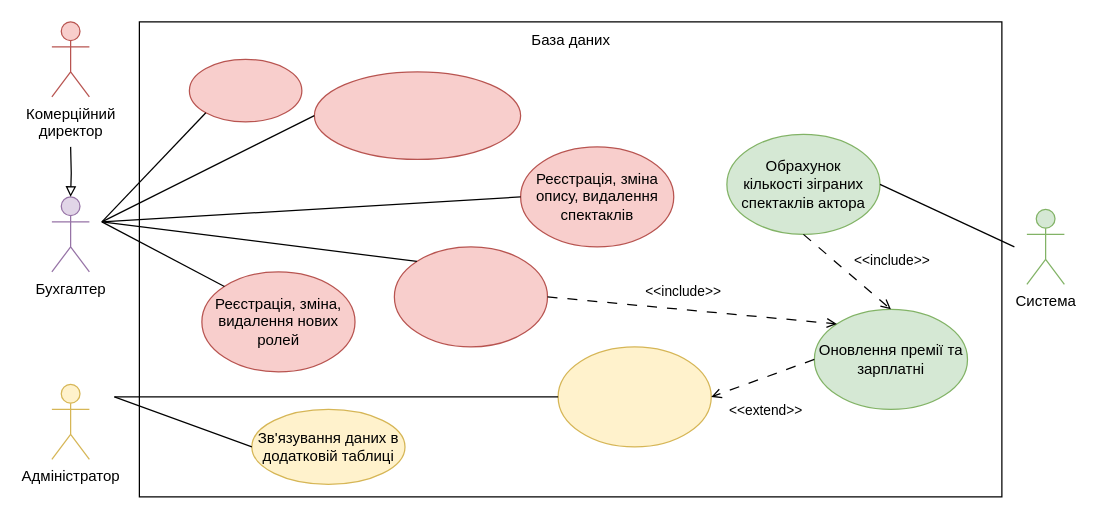
Image size: 1098x519. Some labels were removed from this diagram. The shapes that lost their labels are listed below. From the top down, each one's centre as x and y in pixels, then its label:
(x=245, y=90): Перегляд даних
(x=417, y=115): Редагування, видалення, внесення нових контрактів
(x=470, y=296): Реєстрація, видалення, зміна базової зарплатні акторів
(x=634, y=396): Зміна преміального коефіцієнту
